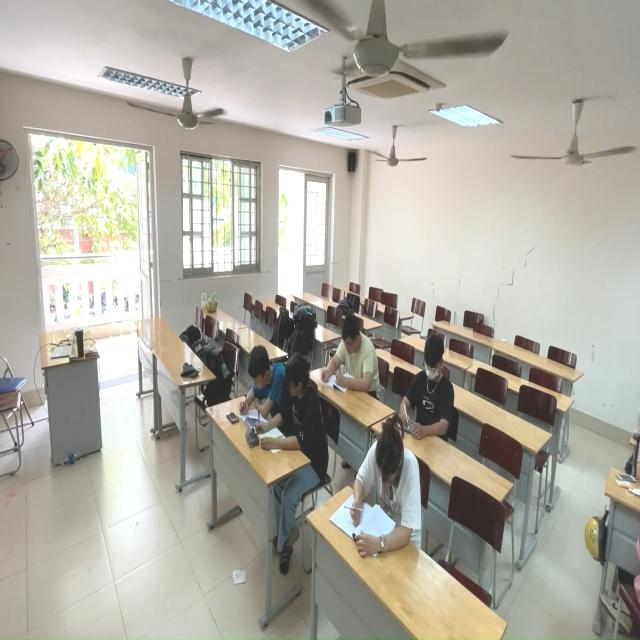read: (340, 416, 425, 563), (250, 356, 332, 465), (387, 332, 460, 449), (227, 338, 301, 445), (319, 309, 385, 396)
